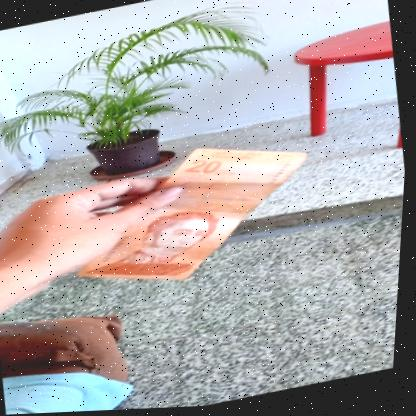twenty-front-vef: (59, 127, 326, 304)
